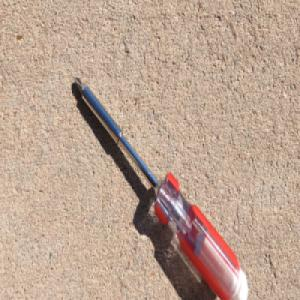Screwdriver: (74, 73, 249, 300)
